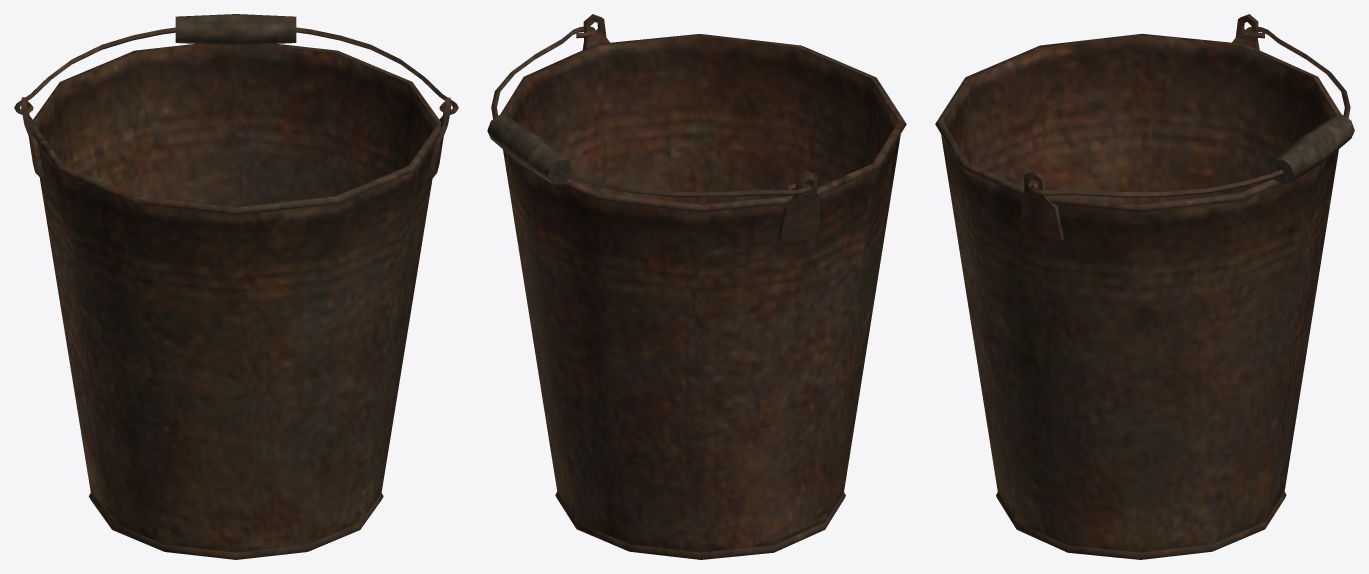
File: bucket_mx_1.obj
3 renders of one model, left to right at view 1: azimuth 30°, elevation 25°; view 2: azimuth 150°, elevation 25°; view 3: azimuth 270°, elevation 25°, orthographic.
Visible parts, largest first — view 1: bucket_mx_1; view 2: bucket_mx_1; view 3: bucket_mx_1.
Boxes of the visible parts, box(x1,y1,x2,y2) form: bucket_mx_1: box(14, 14, 458, 559); bucket_mx_1: box(487, 14, 906, 559); bucket_mx_1: box(935, 14, 1354, 559).
Size of the model in its own units: 0.43 by 0.4654 by 0.4359.
